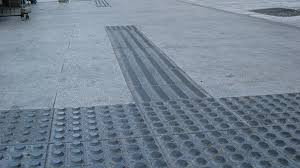guide_blocks: (1, 92, 300, 168), (107, 26, 200, 97)
